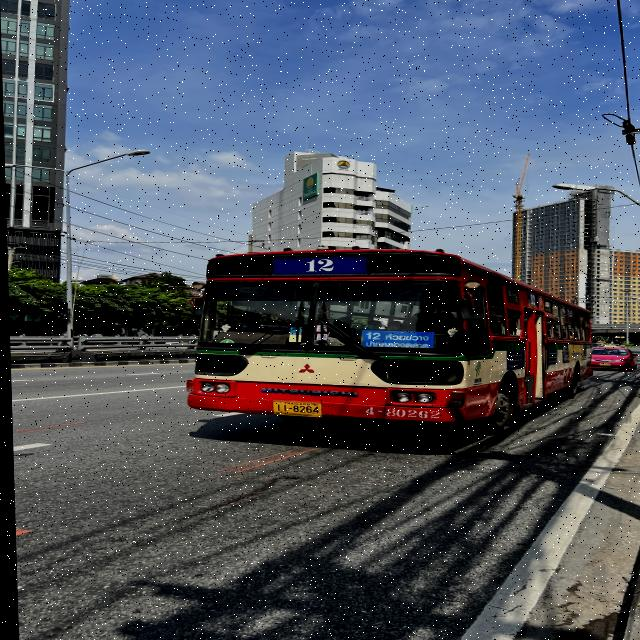BMTA-bus: (180, 249, 595, 435)
Bus-Line-Number: (284, 254, 357, 276)
Destination-Sign-Normal: (360, 330, 435, 350)
